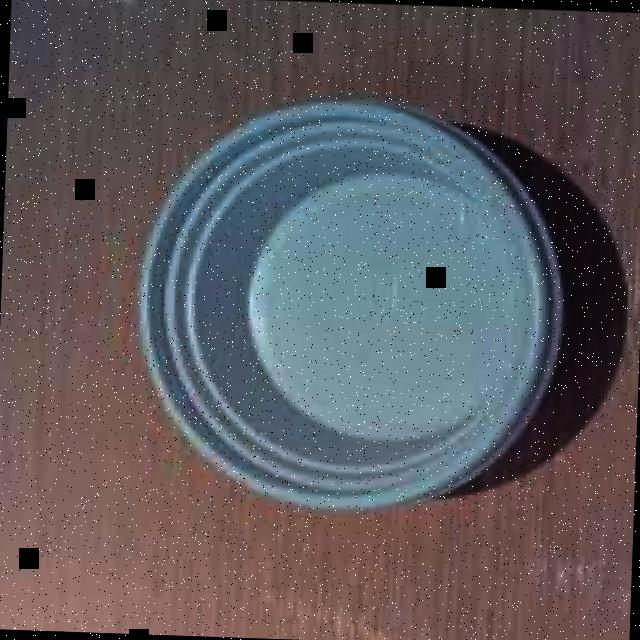plastic_box: (131, 90, 569, 508)
